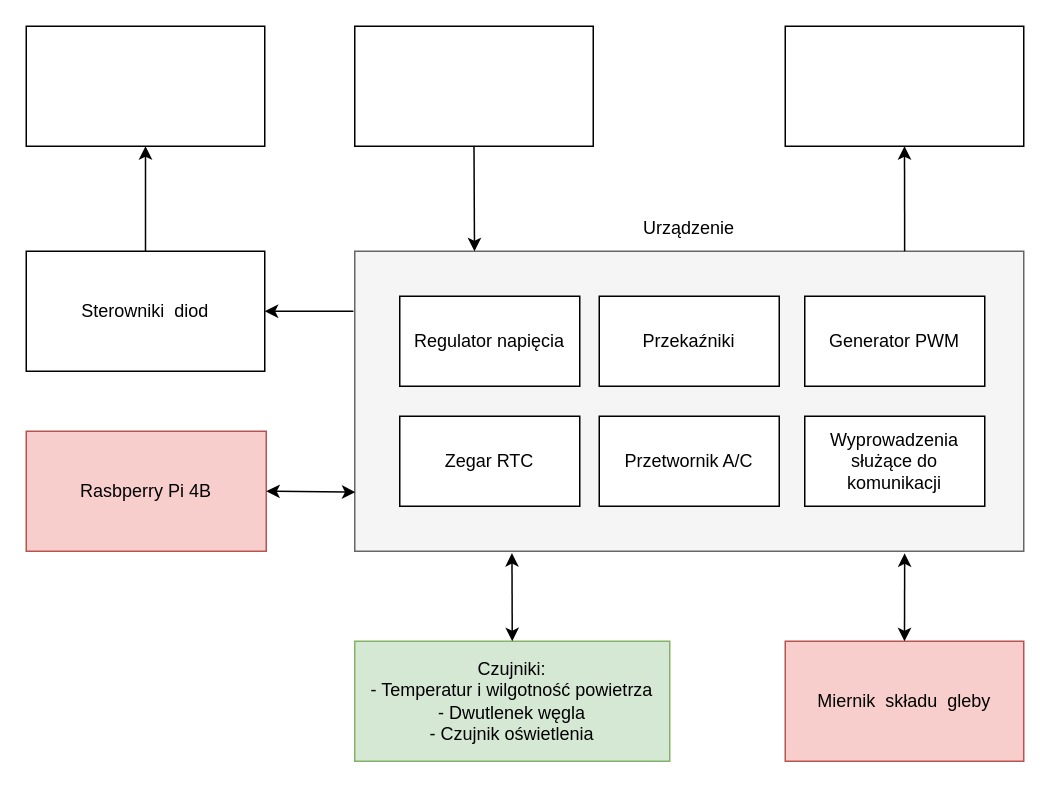
Image size: 1050x788. Some labels were removed from this diagram. Each missing label, with the centre of its shape:
"Panel LED" goes at (145,85).
"Pompa wody" goes at (904,85).
"Zewnętrzny zasilacz" goes at (473,85).
